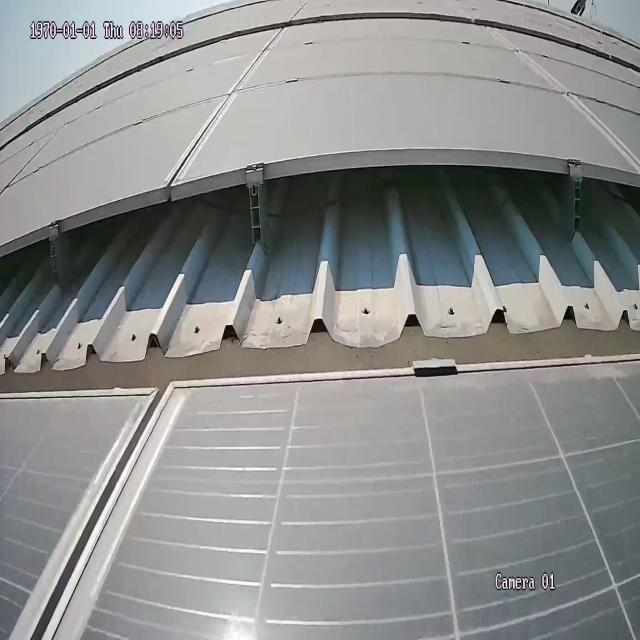interior panel: (7, 405, 188, 640), (493, 39, 636, 157), (167, 33, 283, 168)
outher panel: (2, 154, 640, 401)
